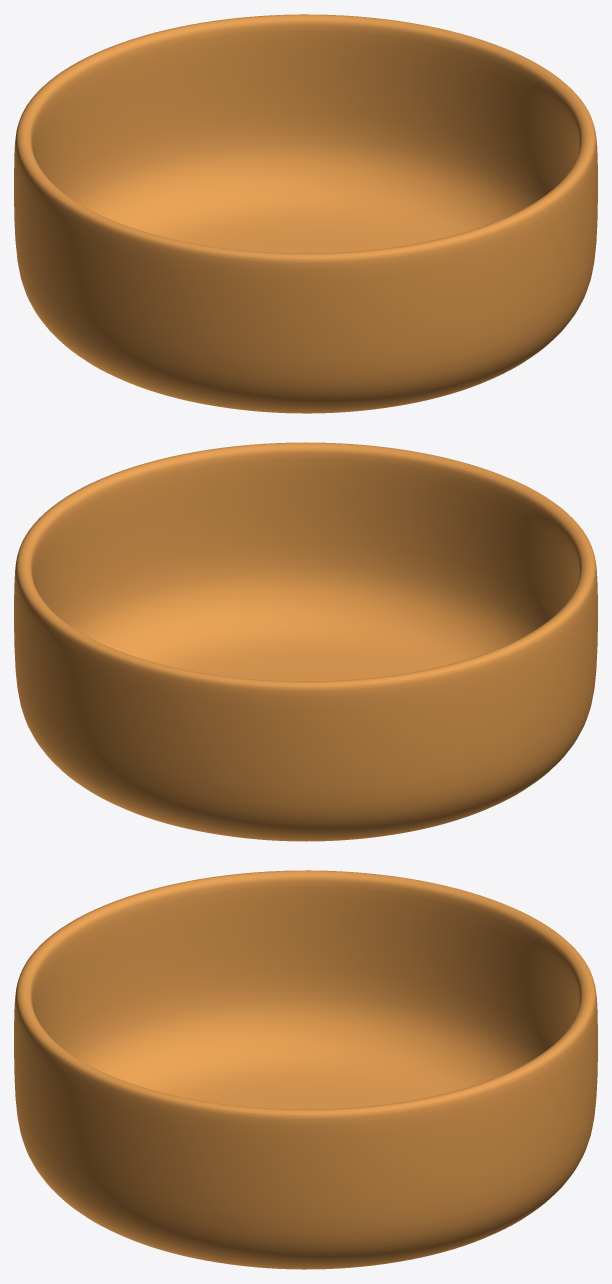
File: Kale Wooden Bowl.fbx
The picture shows the model from 3 angles, top to bottom: view 1: azimuth 30°, elevation 25°; view 2: azimuth 150°, elevation 25°; view 3: azimuth 270°, elevation 25°; orthographic projection.
Visible parts, largest first — view 1: Cylinder; view 2: Cylinder; view 3: Cylinder.
Part boxes in pixels (bbox=[...]): Cylinder: bbox=[14, 14, 597, 413]; Cylinder: bbox=[14, 442, 597, 841]; Cylinder: bbox=[14, 870, 597, 1269].
Size of the model in its own units: 14.39 by 4.98 by 14.39.
